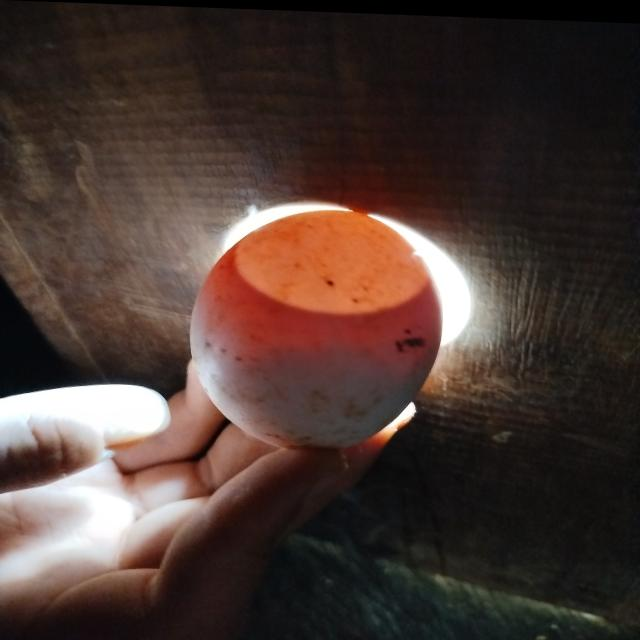Embriao: (200, 341, 439, 449)
